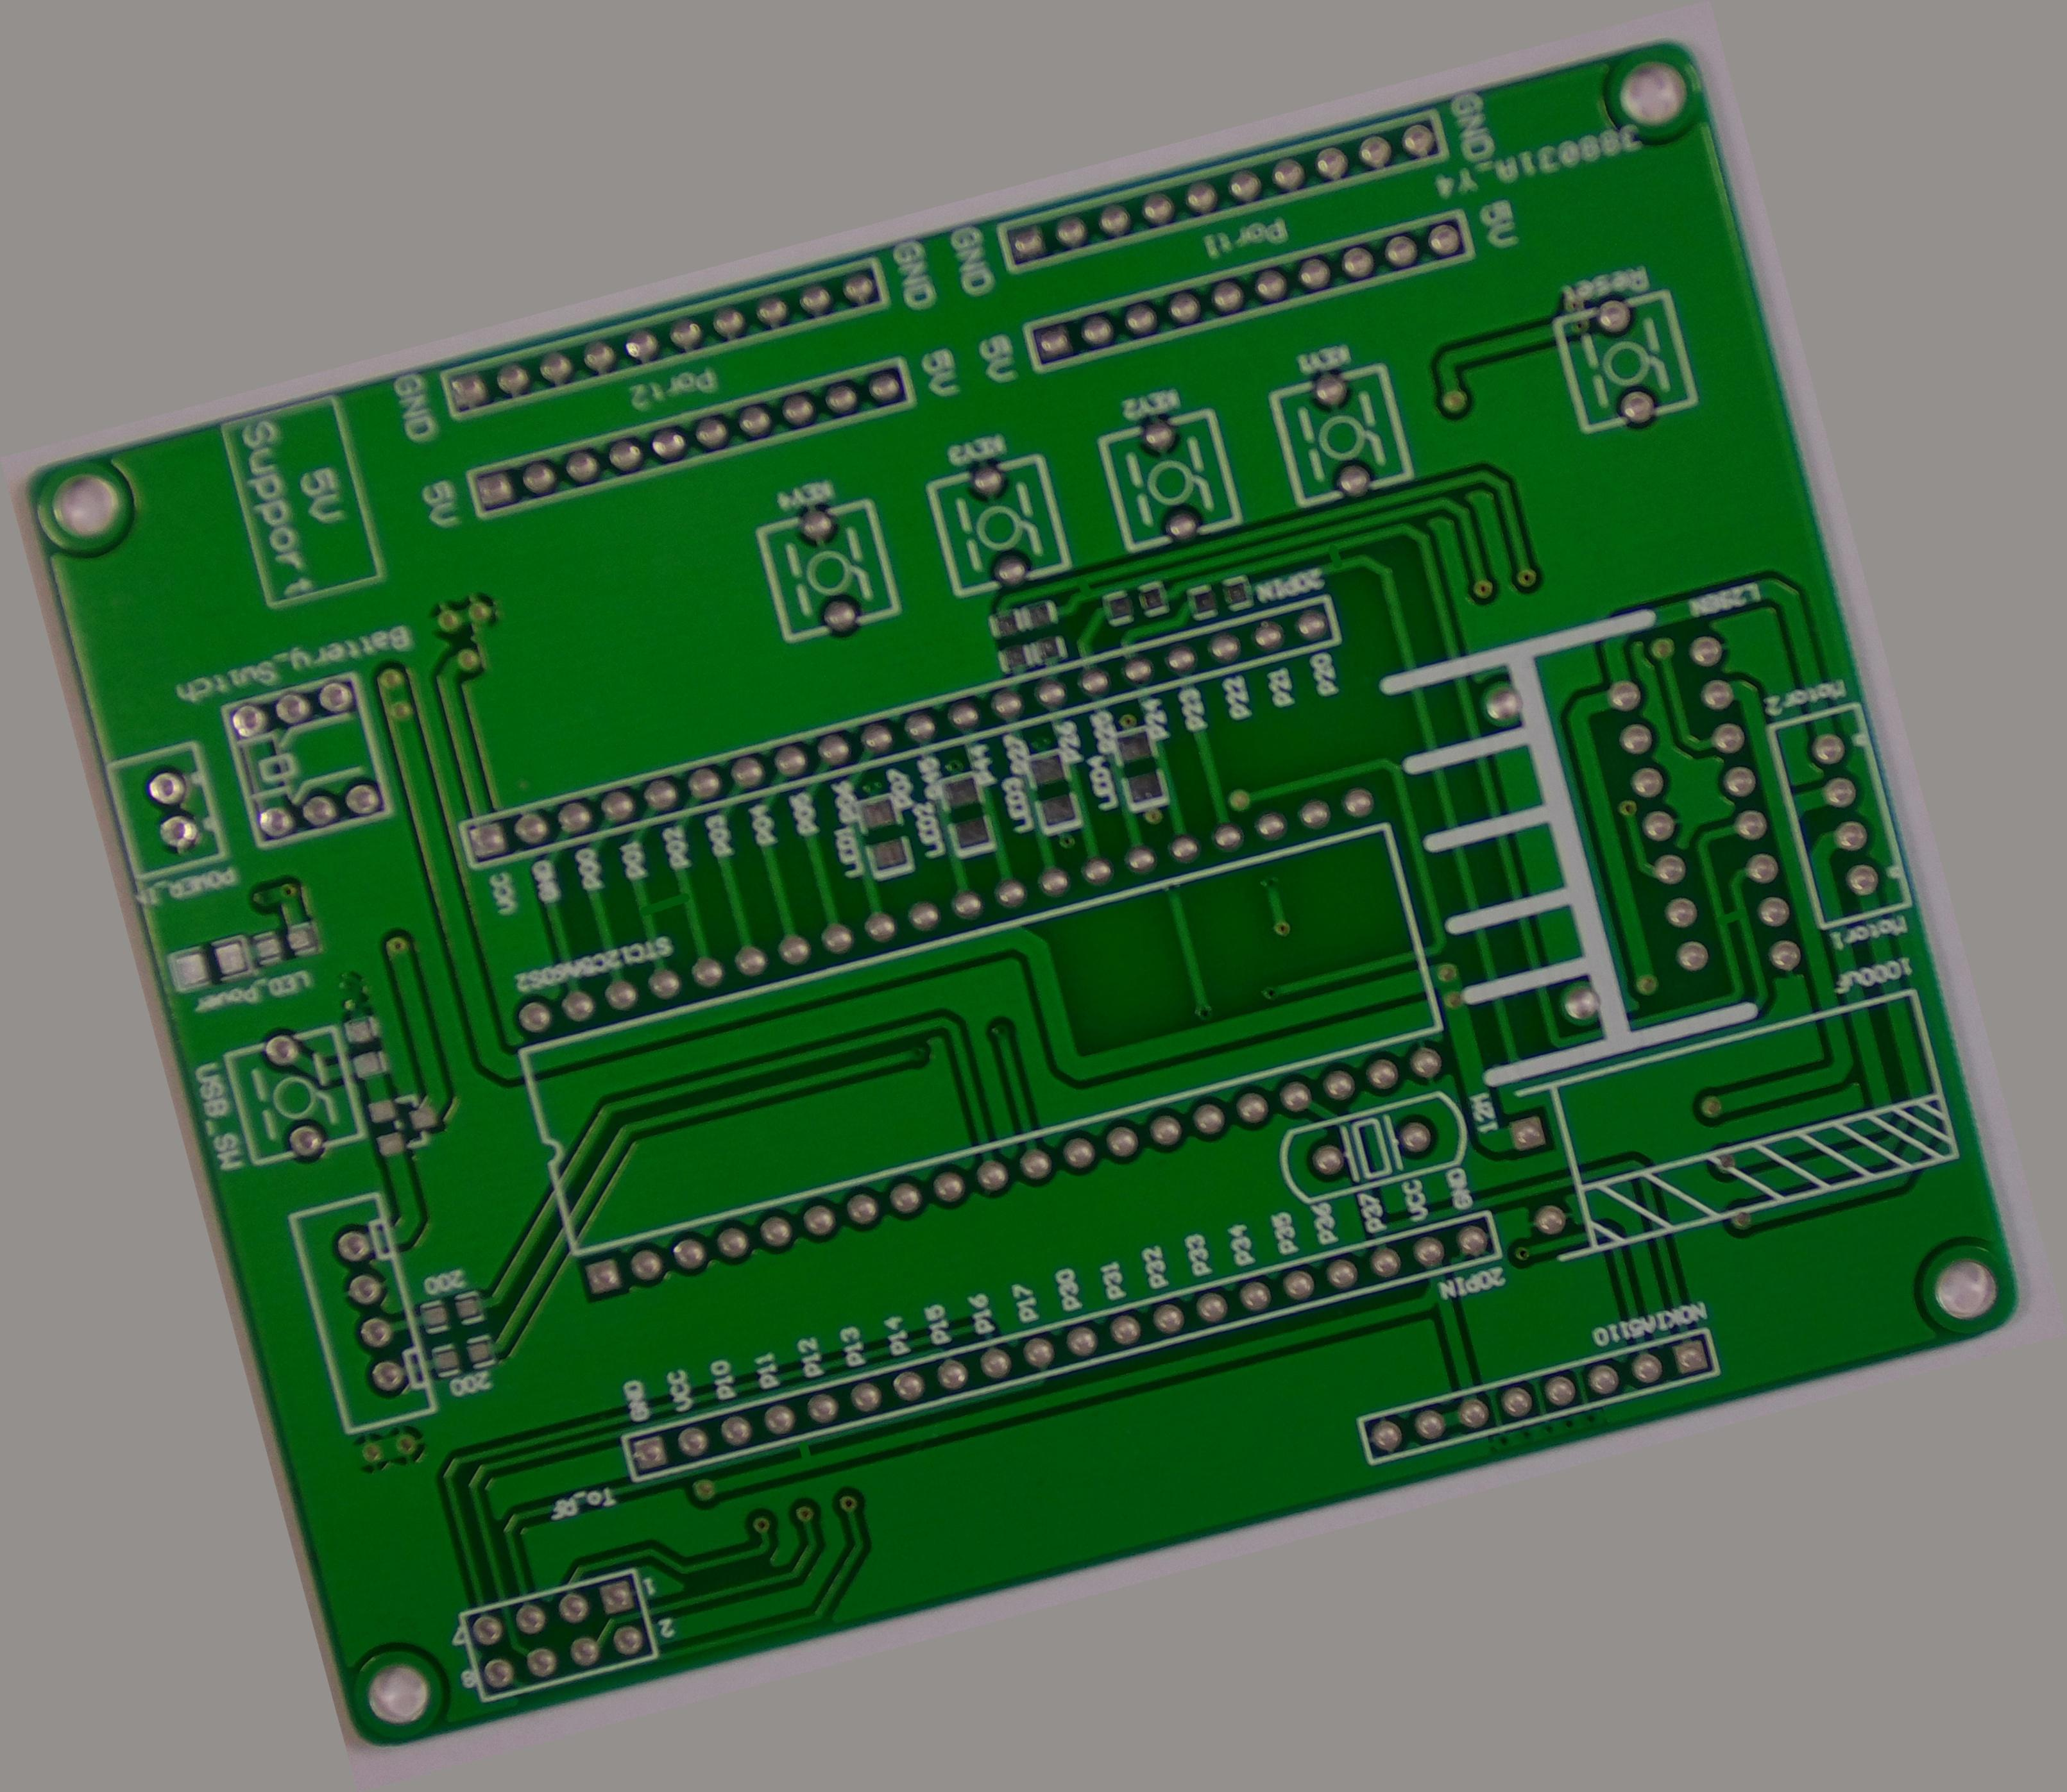short: (629, 877, 705, 931), (780, 1423, 835, 1481), (1304, 534, 1360, 587), (1701, 889, 1758, 942), (1058, 566, 1107, 613)
